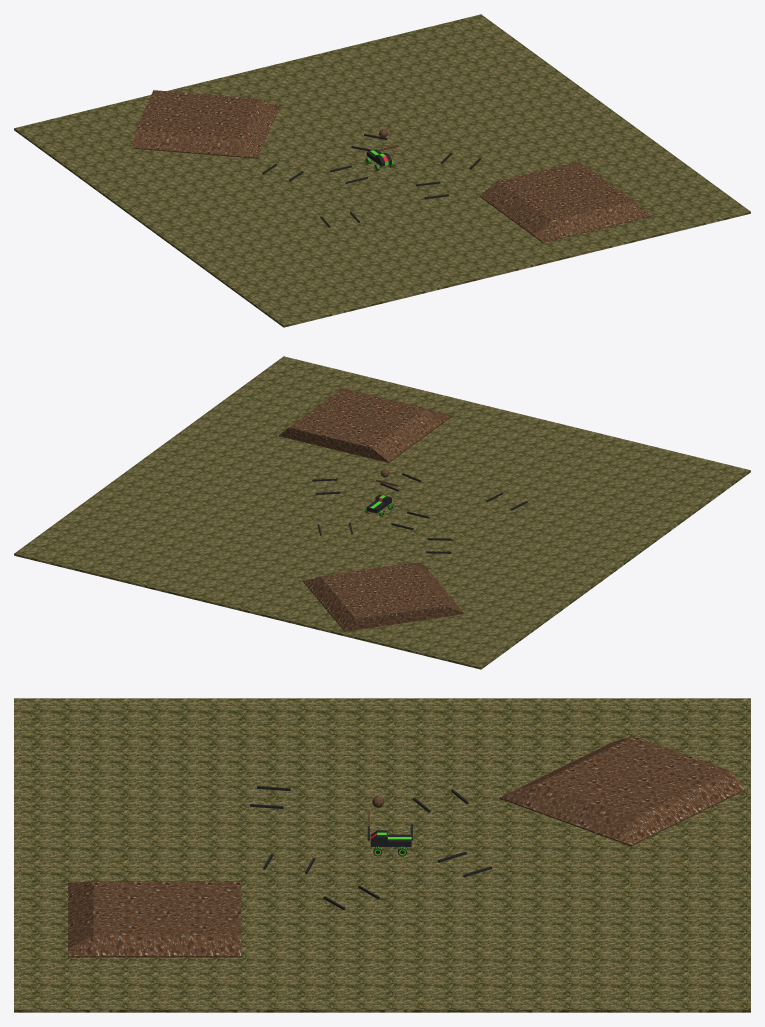
File: car-cam-physics.glb
The picture shows the model from 3 angles, top to bottom: view 1: azimuth 30°, elevation 25°; view 2: azimuth 150°, elevation 25°; view 3: azimuth 270°, elevation 25°; orthographic projection. The views are drawn at different scales.
Parts seen in each view (by area): view 1: floor; view 2: floor; view 3: floor, car_body.
Part boxes in pixels (left/top/right/bottom): floor: left=14, top=14, right=750, bottom=327; floor: left=14, top=356, right=750, bottom=669; floor: left=14, top=698, right=750, bottom=1012; car_body: left=370, top=830, right=411, bottom=846.
Bounding box in the file's own units: 50 × 4.46 × 50.
Materials: 5 (2 with a texture image).
